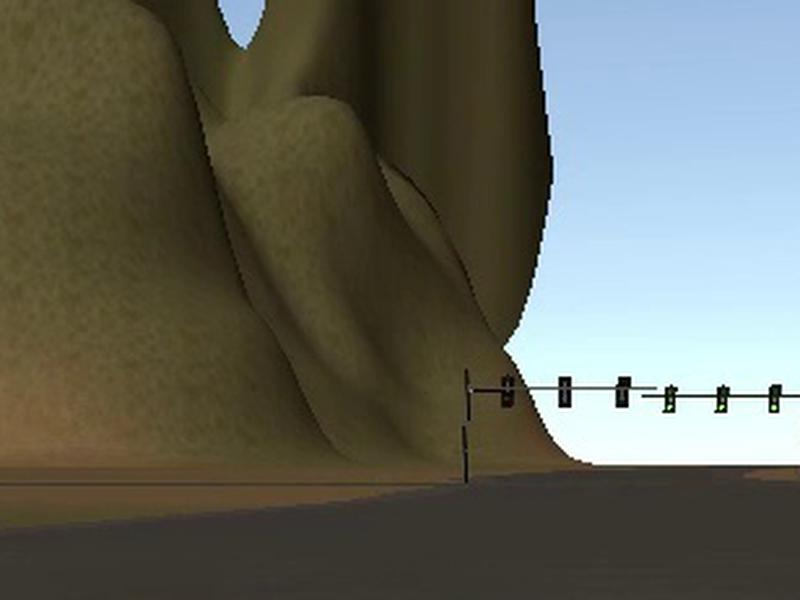Green: (714, 386, 730, 413), (768, 383, 782, 413), (662, 385, 677, 412)
